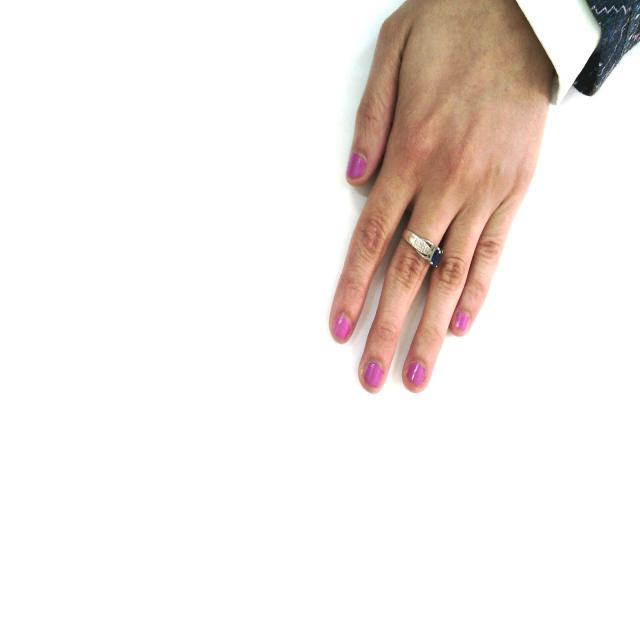Fingernail: (347, 154, 365, 180), (365, 362, 383, 387), (334, 316, 351, 342), (408, 363, 426, 386), (453, 310, 469, 333)
